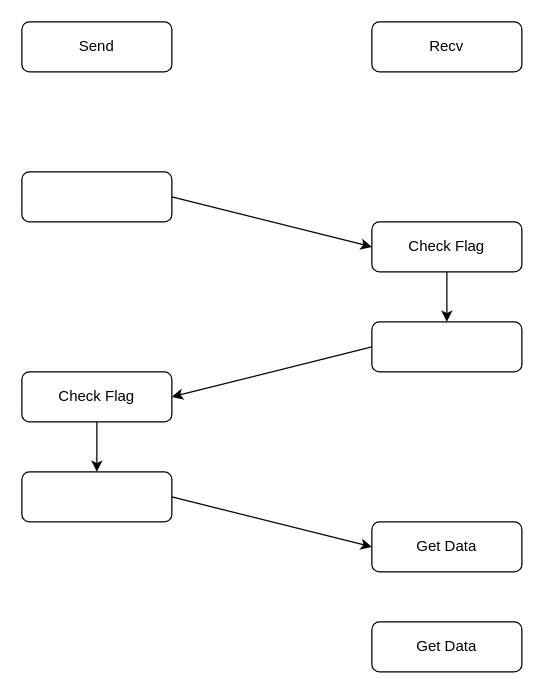
Image size: 544x694. Some labels were removed from this diagram. Here are the shapes that lost their labels. From the top down, the centre of each, then its label:
the point at 96,196: Write Flag to Target
the point at 446,346: Reply Source Write Flag
the point at 96,496: Send Data to Target
